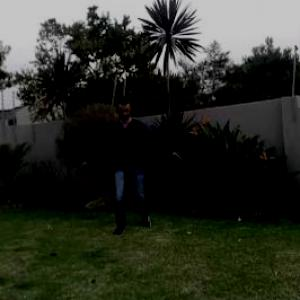land: (84, 89, 198, 234)
